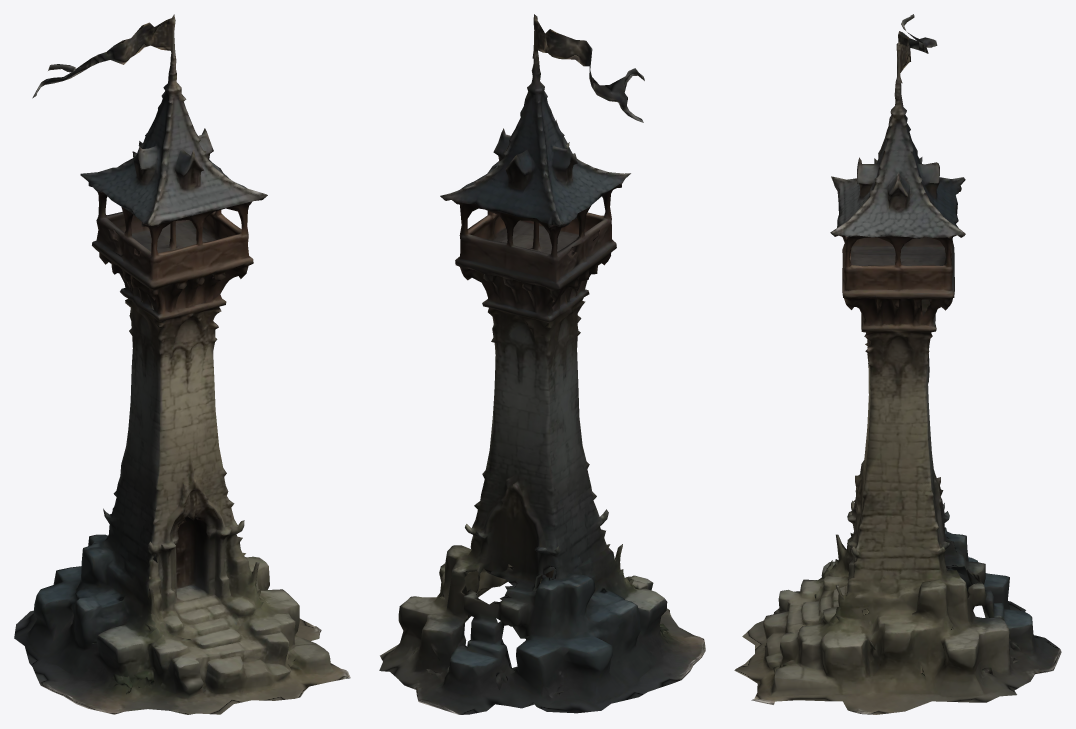
The model's file is watchtower.glb.
3 views of the same model, side by side, from view 1: azimuth 30°, elevation 25°; view 2: azimuth 150°, elevation 25°; view 3: azimuth 270°, elevation 25° (orthographic). The views are drawn at different scales.
Visible parts, largest first — view 1: geometry_0; view 2: geometry_0; view 3: geometry_0.
Part boxes in pixels (x1,y1,x2,y2): geometry_0: [14, 14, 350, 714]; geometry_0: [379, 14, 705, 714]; geometry_0: [734, 14, 1061, 714].
Bounding box in the file's own units: 0.4378 × 0.9891 × 0.4786.
Materials: 1 (1 with a texture image).
